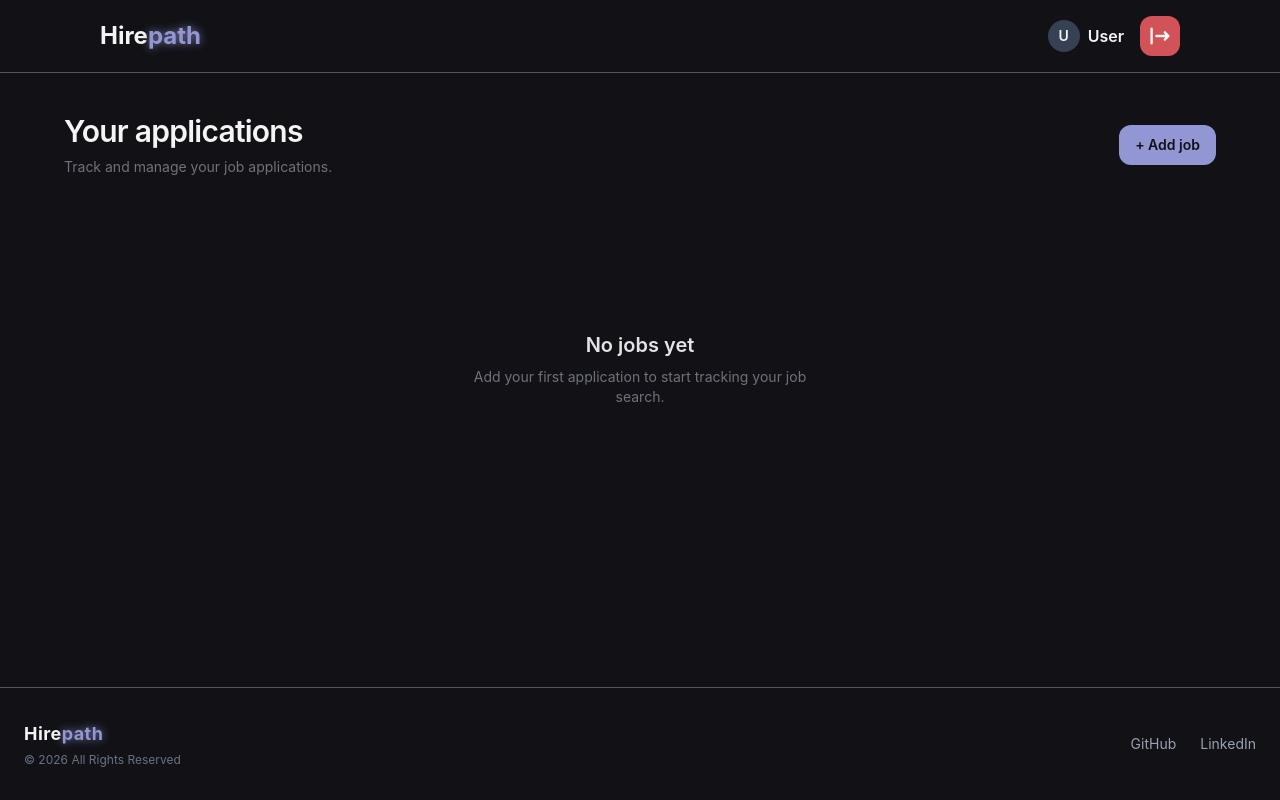
Test case: DashboardPage › should create a new job
Expected: the heading "No jobs yet" is shown, [586, 331, 694, 359]
Step 1. Click the button "+ Add job" → (1168, 145), box [1119, 125, 1216, 165]
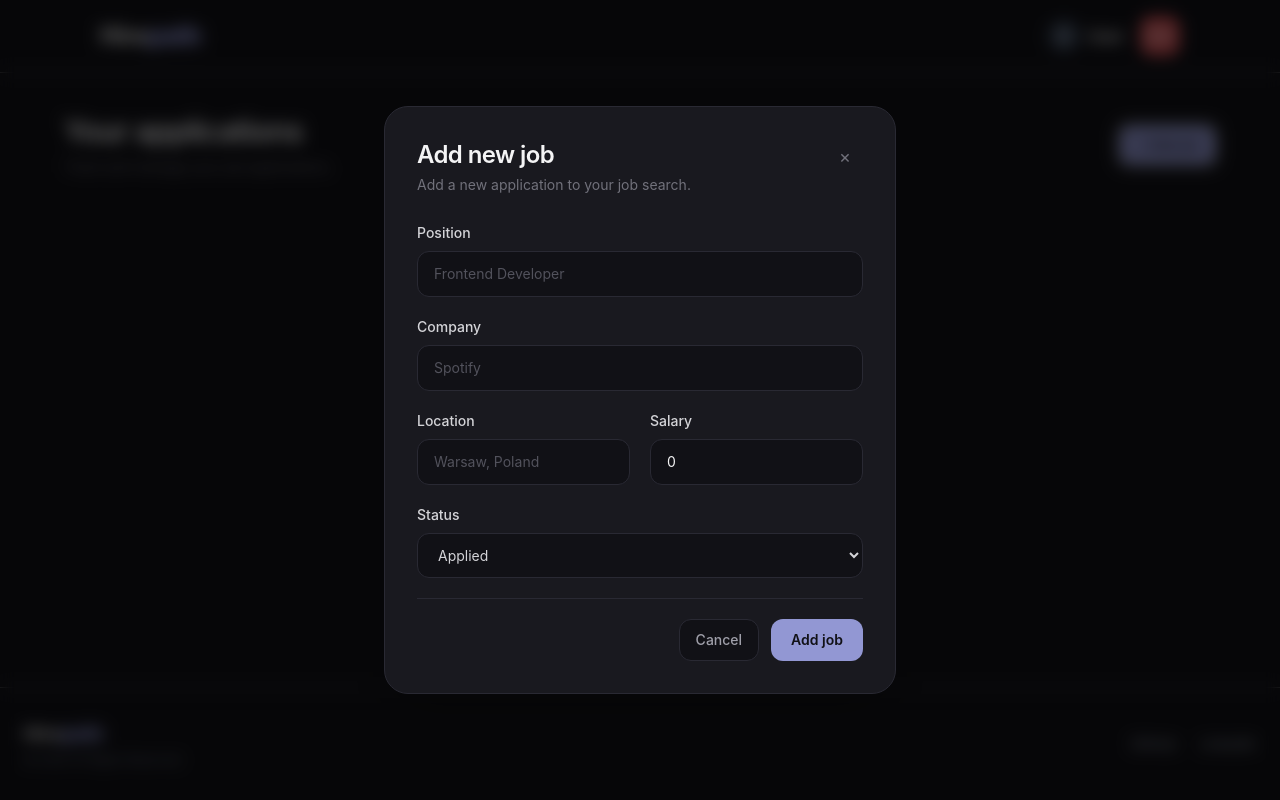
Step 2. Type "React Developer" into the field labelled "Position" → (640, 274), box [417, 251, 863, 297]
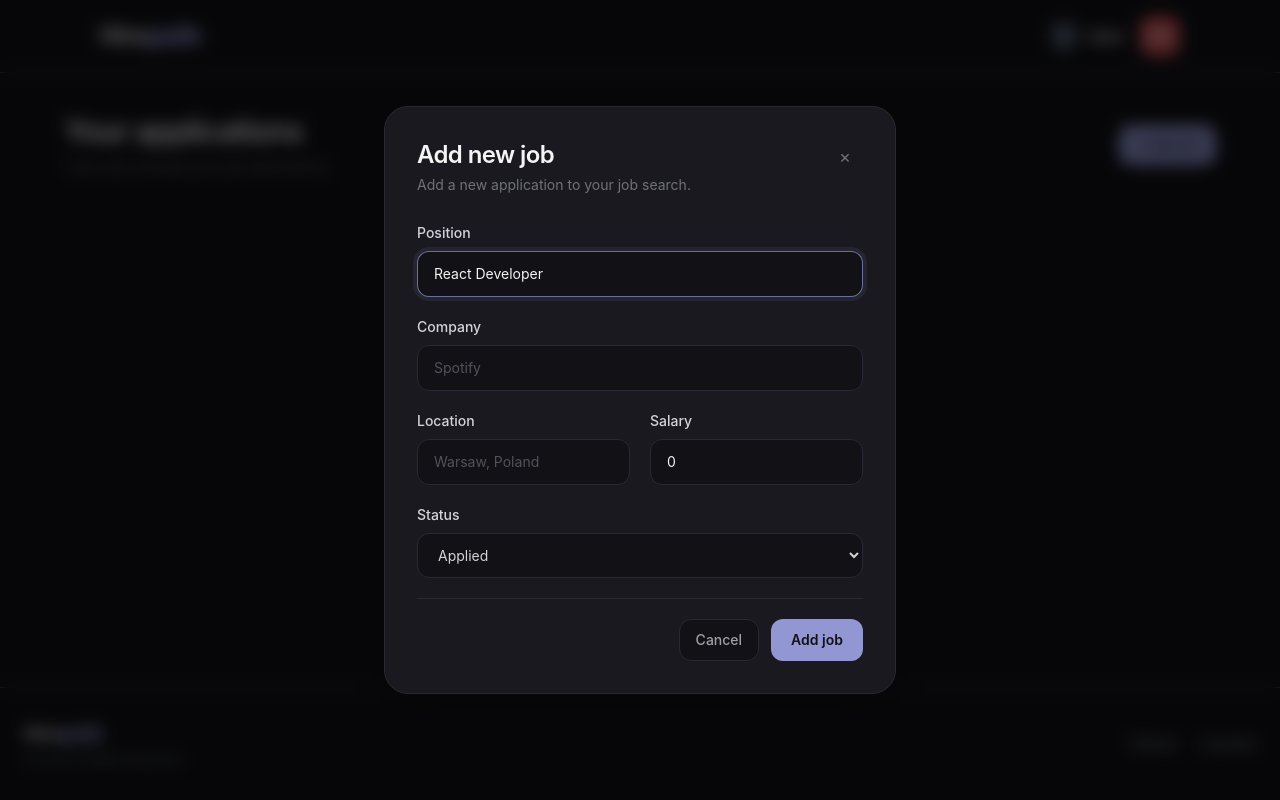
Step 3. Type "Microsoft" into the field labelled "Company" → (640, 368), box [417, 345, 863, 391]
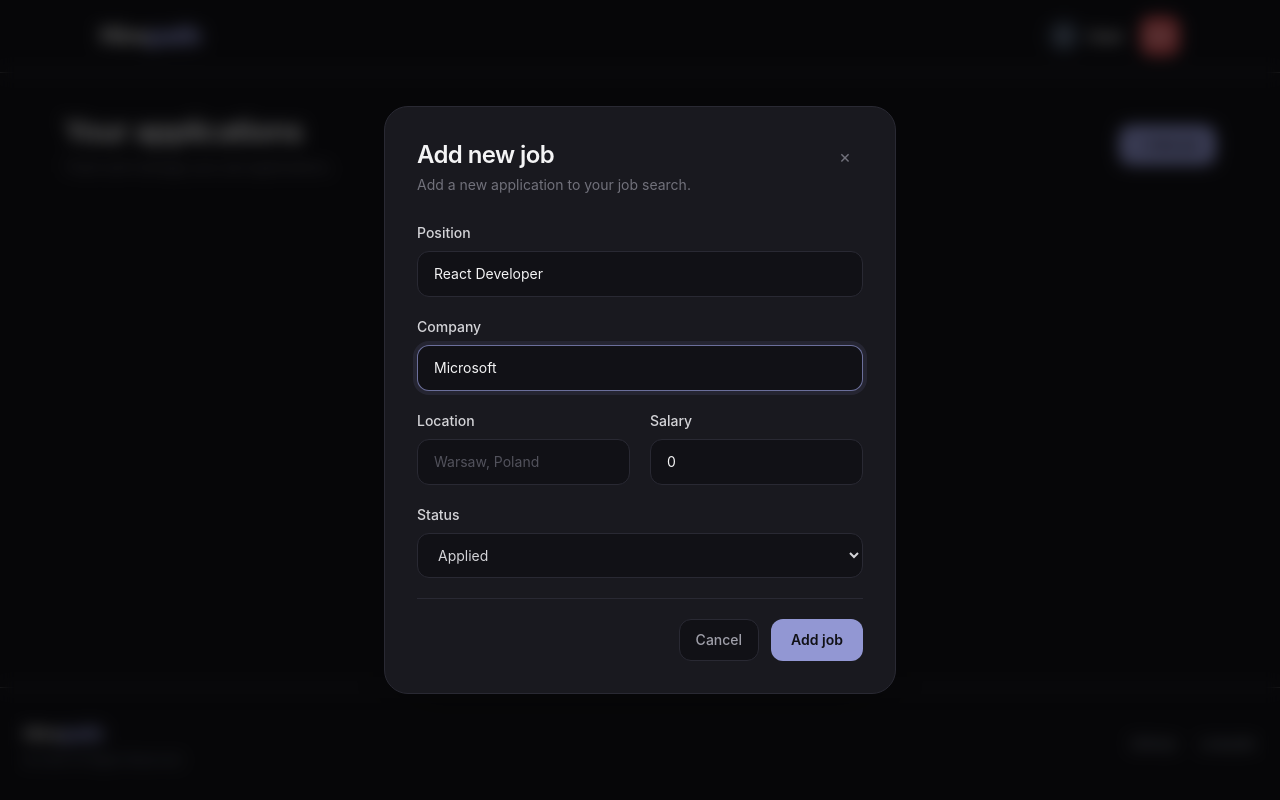
Step 4. Type "Wroclaw" into the field labelled "Location" → (524, 462), box [417, 439, 630, 485]
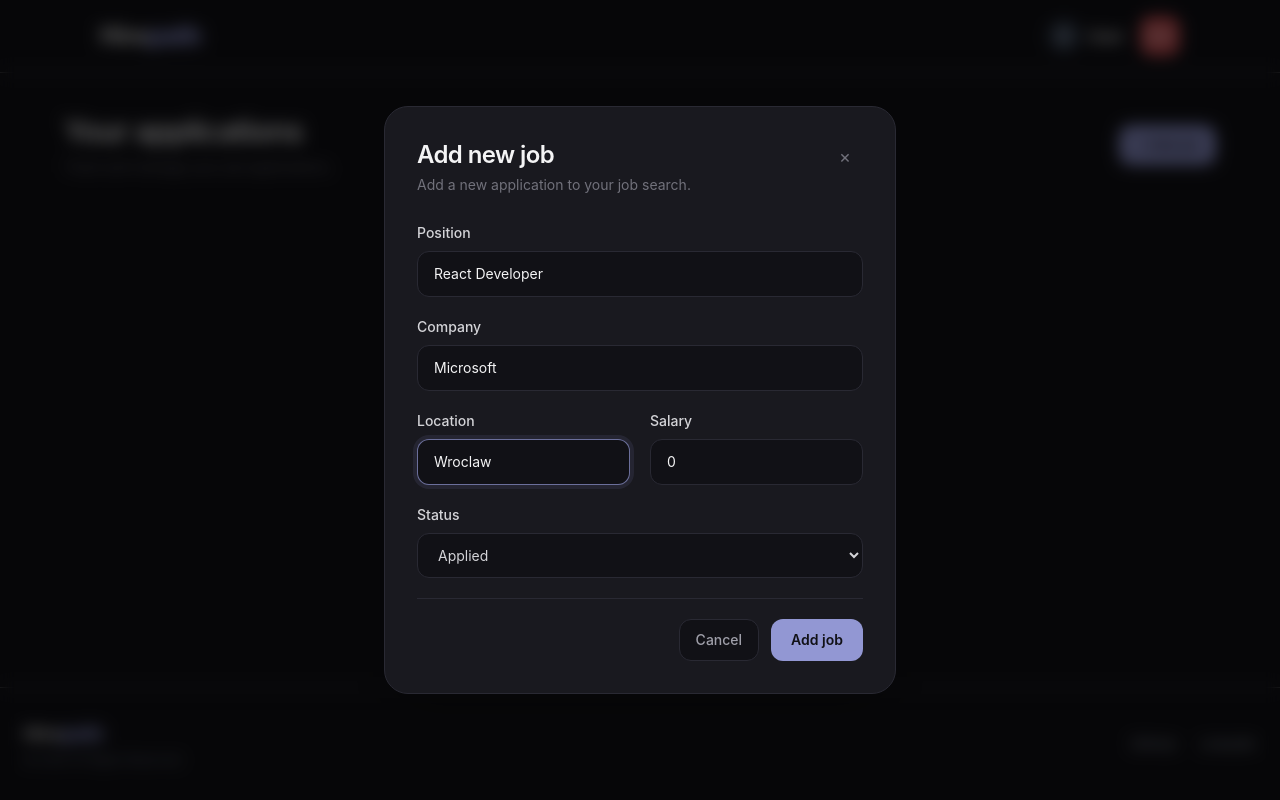
Step 5. Replace the text in the number field labelled "Salary" with "3200" → (756, 462), box [650, 439, 863, 485]
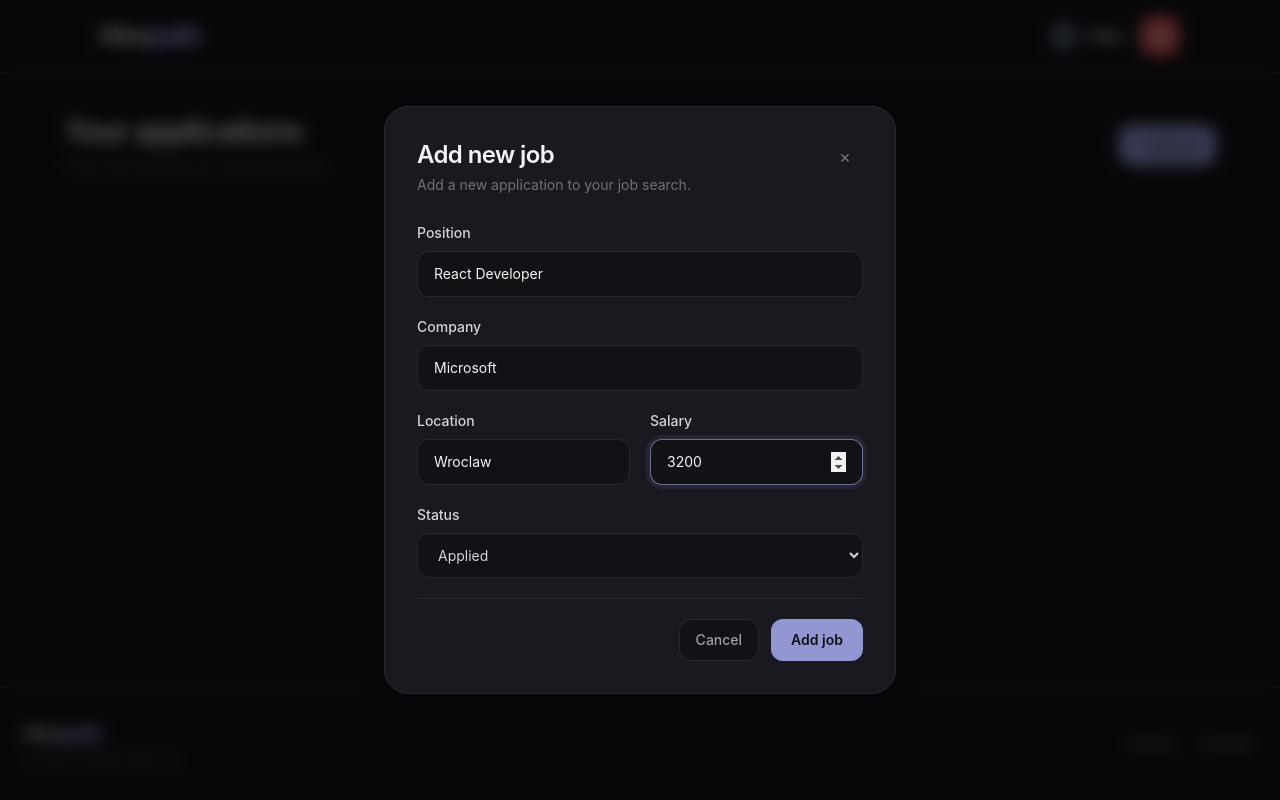
Step 6. Click the button "Add job" → (817, 640), box [771, 619, 863, 661]
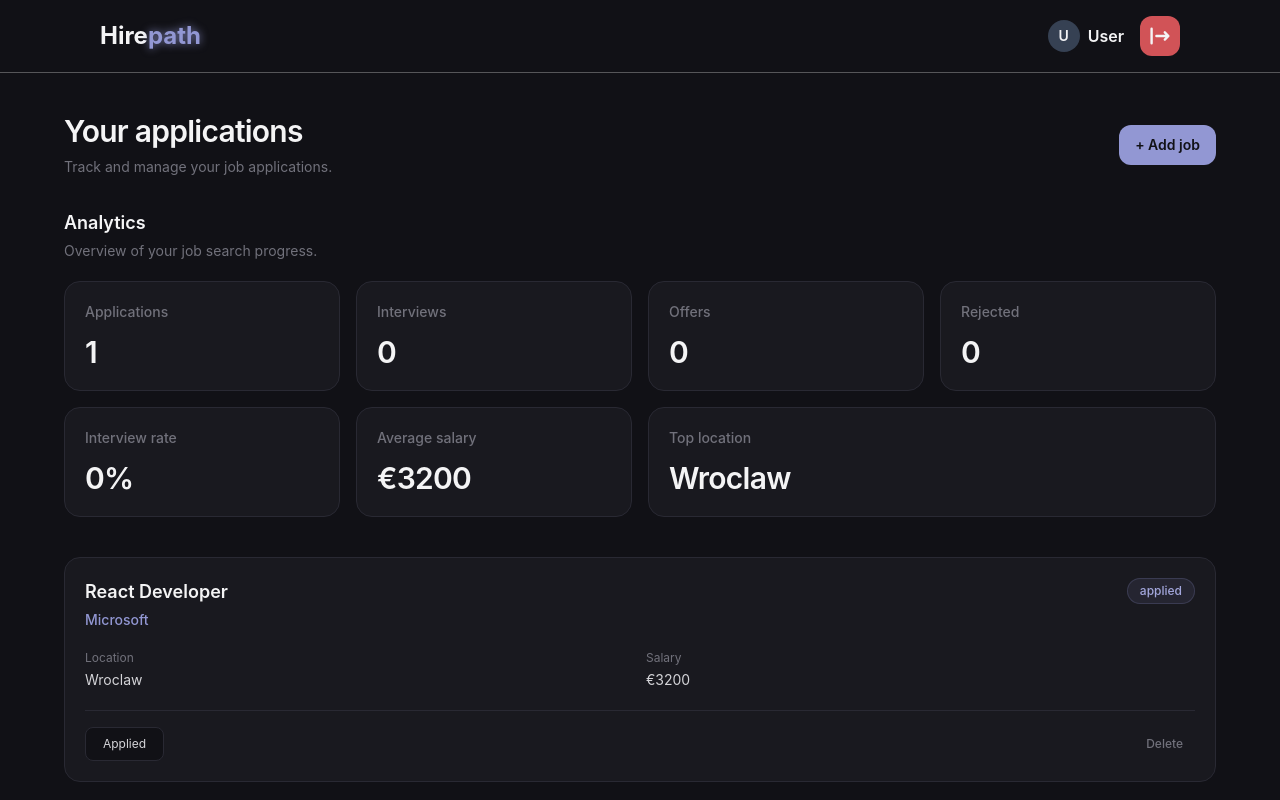
Now the heading "React Developer" is shown, box [85, 578, 228, 606]
Now the heading "Add new job" is gone
